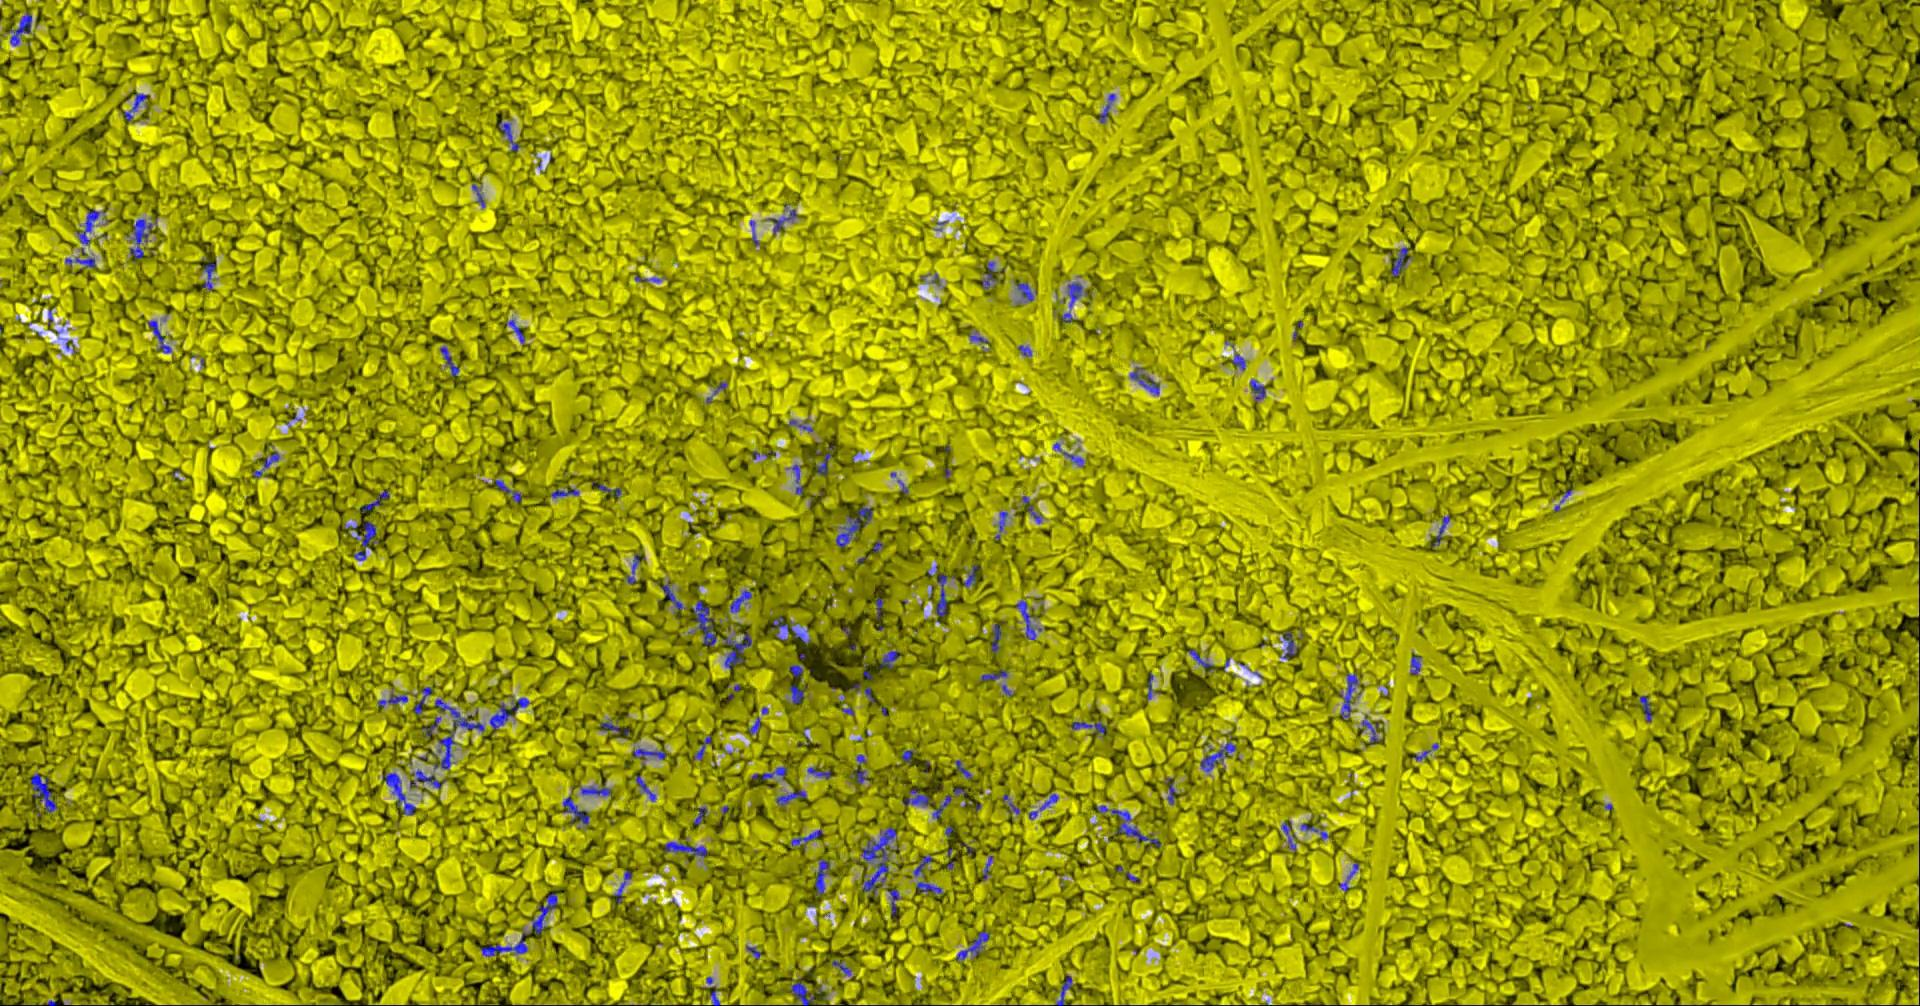ant: (434, 699, 483, 768), (1096, 805, 1161, 847), (860, 826, 897, 897), (836, 507, 872, 547), (382, 772, 415, 814), (1199, 737, 1236, 771), (489, 697, 528, 729), (76, 210, 104, 253), (480, 931, 527, 956), (691, 600, 716, 645), (530, 892, 556, 934), (770, 616, 809, 644), (721, 633, 750, 669), (130, 218, 155, 260), (955, 930, 989, 960), (353, 521, 378, 560), (1016, 600, 1041, 639), (30, 774, 56, 812), (935, 573, 955, 616), (1338, 673, 1357, 718), (1129, 367, 1159, 394), (122, 93, 149, 122), (6, 13, 30, 44), (147, 320, 171, 352), (563, 796, 589, 824), (767, 210, 797, 234), (664, 840, 707, 856), (251, 452, 279, 478), (790, 977, 815, 1005), (1053, 442, 1083, 465), (498, 119, 519, 151), (361, 489, 389, 512), (662, 580, 684, 608), (612, 870, 631, 903), (494, 479, 521, 502), (1431, 514, 1450, 546), (409, 768, 441, 788), (791, 829, 823, 848), (439, 345, 458, 376), (1186, 648, 1213, 669), (1021, 495, 1041, 523), (626, 553, 644, 584), (1390, 246, 1410, 276), (815, 445, 834, 474), (902, 789, 935, 805), (814, 859, 829, 894), (1279, 631, 1298, 659), (850, 754, 869, 782), (1338, 862, 1357, 890), (775, 789, 806, 805), (413, 686, 430, 715), (635, 775, 655, 800), (632, 748, 665, 763), (1361, 716, 1379, 744), (729, 589, 750, 612), (1067, 282, 1086, 307), (505, 319, 524, 344), (599, 719, 629, 735), (1070, 721, 1105, 735), (1055, 974, 1070, 1005), (750, 766, 786, 779), (1098, 93, 1114, 122), (850, 683, 872, 702), (693, 735, 711, 760), (932, 795, 950, 819), (982, 260, 997, 288), (590, 481, 621, 495), (377, 692, 408, 706), (1281, 821, 1295, 851), (580, 782, 611, 795), (963, 563, 979, 586), (201, 263, 215, 290), (706, 976, 719, 1005), (1016, 282, 1036, 300), (879, 650, 899, 668), (422, 716, 439, 737), (913, 855, 931, 875), (1250, 379, 1265, 401), (791, 464, 803, 494), (789, 685, 808, 702), (1639, 695, 1652, 721), (1039, 793, 1058, 810), (808, 765, 830, 779), (955, 760, 971, 779), (65, 257, 95, 267), (990, 622, 1001, 652), (916, 882, 941, 893), (980, 669, 1007, 680), (1164, 777, 1175, 804), (888, 888, 898, 915), (550, 488, 578, 497), (692, 807, 706, 824), (1410, 652, 1420, 674), (1230, 353, 1244, 370), (748, 716, 759, 734), (998, 511, 1007, 531), (875, 596, 883, 619), (789, 664, 803, 676), (902, 749, 913, 763)
